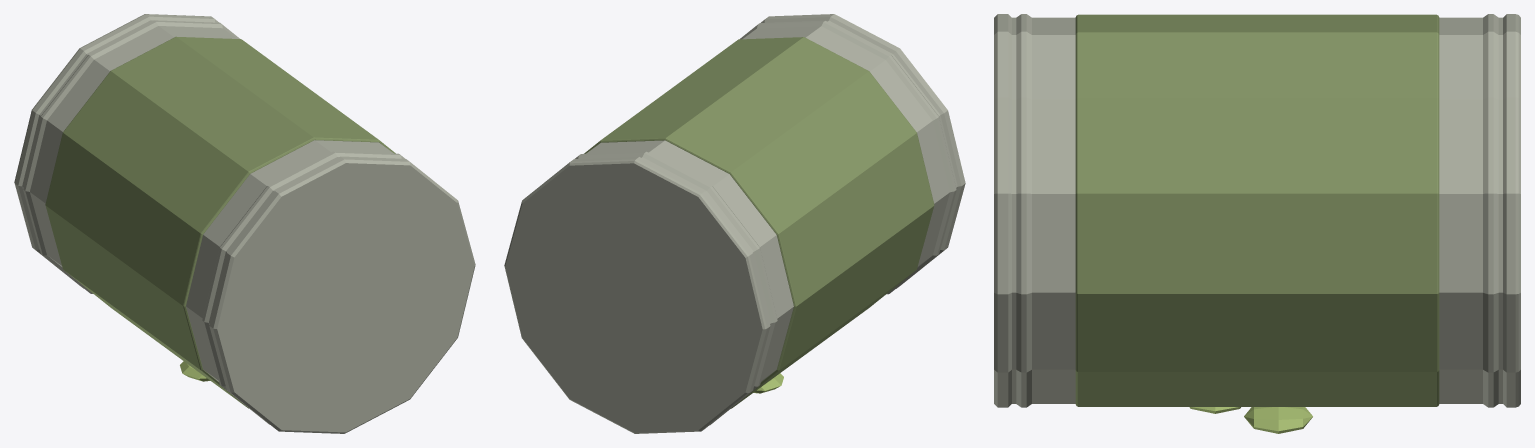
File: canned_peas.glb
3 views of the same model, side by side, from view 1: azimuth 30°, elevation 25°; view 2: azimuth 150°, elevation 25°; view 3: azimuth 270°, elevation 25° (orthographic). The views are drawn at different scales.
Visible parts, largest first — view 1: canned_peas; view 2: canned_peas; view 3: canned_peas.
Part boxes in pixels (x1=…): canned_peas: x1=14, y1=14, x2=475, y2=433; canned_peas: x1=504, y1=14, x2=965, y2=433; canned_peas: x1=994, y1=14, x2=1520, y2=433.
Size of the model in its own units: 0.075 by 0.0786 by 0.1.
